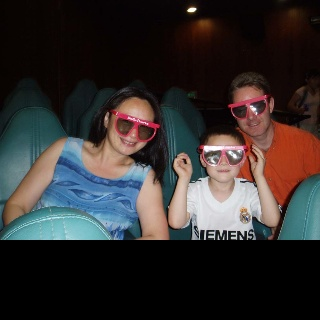without_mask: (107, 97, 155, 154), (232, 85, 270, 136), (206, 135, 240, 182)
